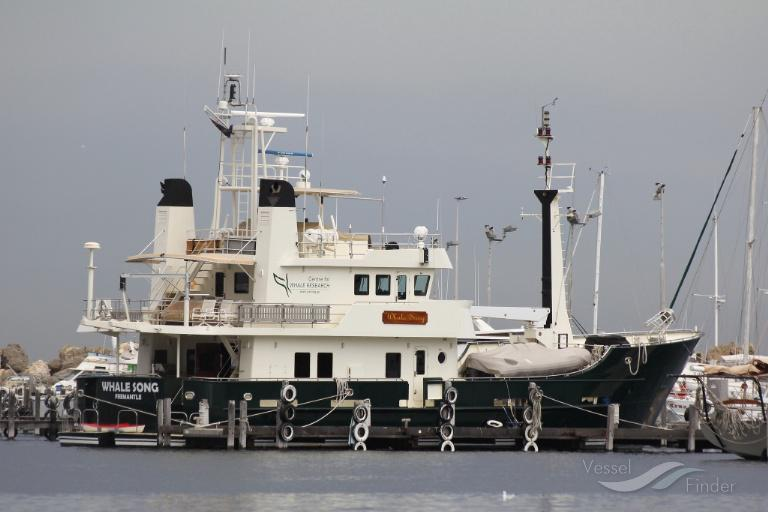OCR: (98, 379, 164, 404)
